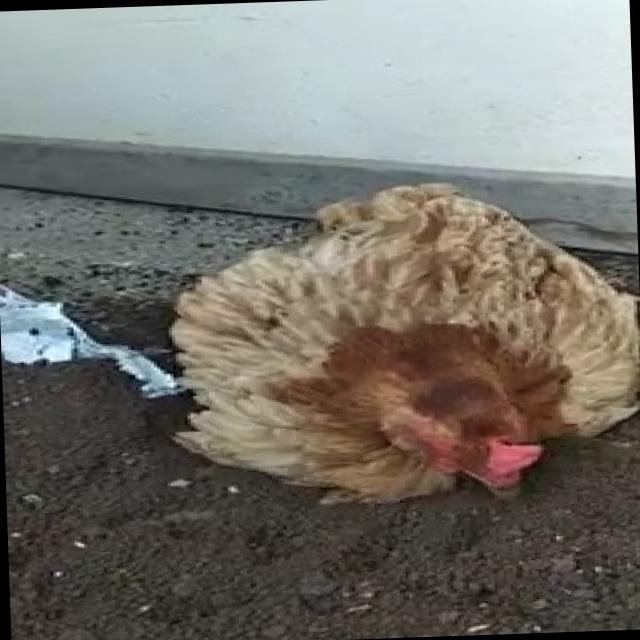stand bath: (153, 170, 640, 516)
